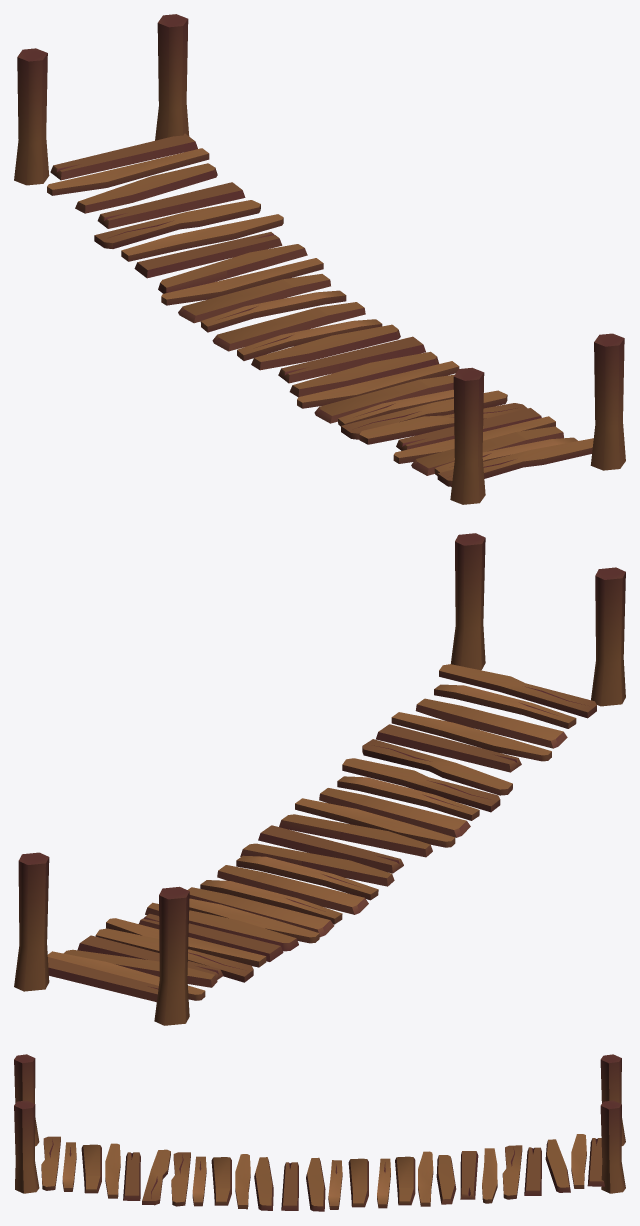
File: bridgetemp01.fbx
The picture shows the model from 3 angles, top to bottom: view 1: azimuth 30°, elevation 25°; view 2: azimuth 150°, elevation 25°; view 3: azimuth 270°, elevation 25°; orthographic projection. The views are drawn at different scales.
Parts seen in each view (by area): view 1: TFF_Wooden_Chair_01A, TFF_Wooden_Chair_01A002, TFF_Wooden_Chair_01A001, TFF_Wooden_Chair_01A003, Object020, Object016, Object022, Object007, Object025, Object024, Object017, Object019 (+18 smaller); view 2: TFF_Wooden_Chair_01A002, TFF_Wooden_Chair_01A003, TFF_Wooden_Chair_01A, TFF_Wooden_Chair_01A001, Object004, Object001, Object008, Object014, Object016, Object013, Object010, Object005 (+18 smaller); view 3: TFF_Wooden_Chair_01A001, TFF_Wooden_Chair_01A003, TFF_Wooden_Chair_01A002, TFF_Wooden_Chair_01A, Object022, Object014, Object004, Object016, Object010, Object001, Object020, Object008 (+18 smaller).
Part boxes in pixels (x1=…): TFF_Wooden_Chair_01A: x1=450, y1=367, x2=485, y2=504; TFF_Wooden_Chair_01A002: x1=14, y1=48, x2=49, y2=185; TFF_Wooden_Chair_01A001: x1=590, y1=333, x2=625, y2=470; TFF_Wooden_Chair_01A003: x1=155, y1=14, x2=189, y2=140; Object020: x1=94, y1=200, x2=260, y2=248; Object016: x1=212, y1=302, x2=365, y2=351; Object022: x1=178, y1=274, x2=330, y2=323; Object007: x1=251, y1=324, x2=400, y2=370; Object025: x1=75, y1=163, x2=217, y2=213; Object024: x1=97, y1=182, x2=245, y2=228; Object017: x1=121, y1=214, x2=283, y2=261; Object019: x1=158, y1=244, x2=307, y2=293; TFF_Wooden_Chair_01A002: x1=154, y1=886, x2=189, y2=1025; TFF_Wooden_Chair_01A003: x1=14, y1=852, x2=49, y2=991; TFF_Wooden_Chair_01A: x1=591, y1=567, x2=625, y2=706; TFF_Wooden_Chair_01A001: x1=451, y1=533, x2=485, y2=670; Object004: x1=415, y1=698, x2=567, y2=748; Object001: x1=439, y1=664, x2=596, y2=718; Object008: x1=342, y1=758, x2=500, y2=812; Object014: x1=362, y1=739, x2=512, y2=795; Object016: x1=217, y1=865, x2=368, y2=914; Object013: x1=279, y1=814, x2=432, y2=857; Object010: x1=319, y1=788, x2=470, y2=837; Object005: x1=391, y1=712, x2=551, y2=761; TFF_Wooden_Chair_01A001: x1=14, y1=1100, x2=39, y2=1193; TFF_Wooden_Chair_01A003: x1=600, y1=1100, x2=625, y2=1193; TFF_Wooden_Chair_01A002: x1=600, y1=1054, x2=625, y2=1145; TFF_Wooden_Chair_01A: x1=14, y1=1054, x2=39, y2=1146; Object022: x1=395, y1=1156, x2=415, y2=1205; Object014: x1=142, y1=1149, x2=170, y2=1205; Object004: x1=81, y1=1144, x2=101, y2=1193; Object016: x1=348, y1=1158, x2=368, y2=1207; Object010: x1=211, y1=1157, x2=231, y2=1205; Object001: x1=41, y1=1136, x2=60, y2=1190; Object020: x1=502, y1=1145, x2=522, y2=1199; Object008: x1=171, y1=1152, x2=190, y2=1206.
Size of what is drawn, in the model's own units: 246 by 213 by 1123.
